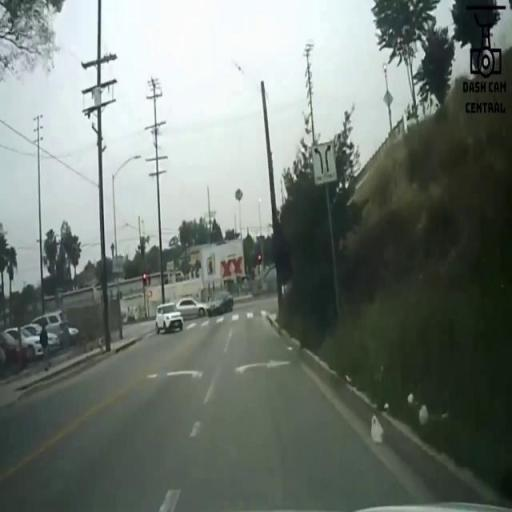小汽车: (155, 306, 183, 332)
小汽车撞小汽车: (178, 295, 233, 318)
